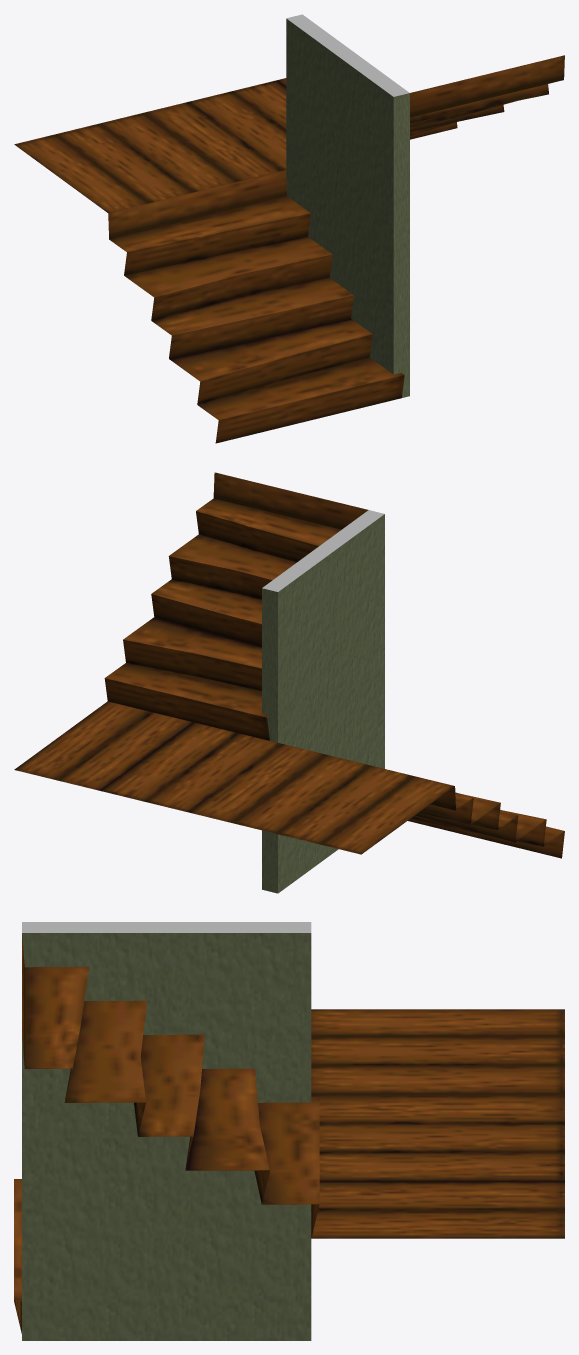
The model's file is TreppeMitTrennwand [Holz]_1860.glb.
3 views of the same model, one above another, from view 1: azimuth 30°, elevation 25°; view 2: azimuth 150°, elevation 25°; view 3: azimuth 270°, elevation 25° (orthographic). The views are drawn at different scales.
Visible parts, largest first — view 1: pPlaneShape17, pPlaneShape20, pPlaneShape1, pPlaneShape19, pPlaneShape22, pPlaneShape18; view 2: pPlaneShape1, pPlaneShape19, pPlaneShape20, pPlaneShape17, pPlaneShape23, pPlaneShape18; view 3: pPlaneShape21, pPlaneShape1, pPlaneShape19, pPlaneShape18, pPlaneShape17.
Part boxes in pixels (<box>): pPlaneShape17: <box>108,170,404,443</box>; pPlaneShape20: <box>286,18,393,374</box>; pPlaneShape1: <box>14,78,286,213</box>; pPlaneShape19: <box>410,55,564,139</box>; pPlaneShape22: <box>393,93,409,397</box>; pPlaneShape18: <box>286,14,409,96</box>; pPlaneShape1: <box>14,701,454,854</box>; pPlaneShape19: <box>104,472,368,740</box>; pPlaneShape20: <box>278,514,384,893</box>; pPlaneShape17: <box>408,786,564,858</box>; pPlaneShape23: <box>262,588,277,893</box>; pPlaneShape18: <box>262,510,384,591</box>; pPlaneShape21: <box>22,933,311,1340</box>; pPlaneShape1: <box>311,1009,564,1238</box>; pPlaneShape19: <box>22,933,319,1237</box>; pPlaneShape18: <box>22,922,311,932</box>; pPlaneShape17: <box>14,1179,21,1333</box>.
Size of the model in its own units: 0.4693 by 0.3891 by 0.4763.
8 materials, 7 textured.
